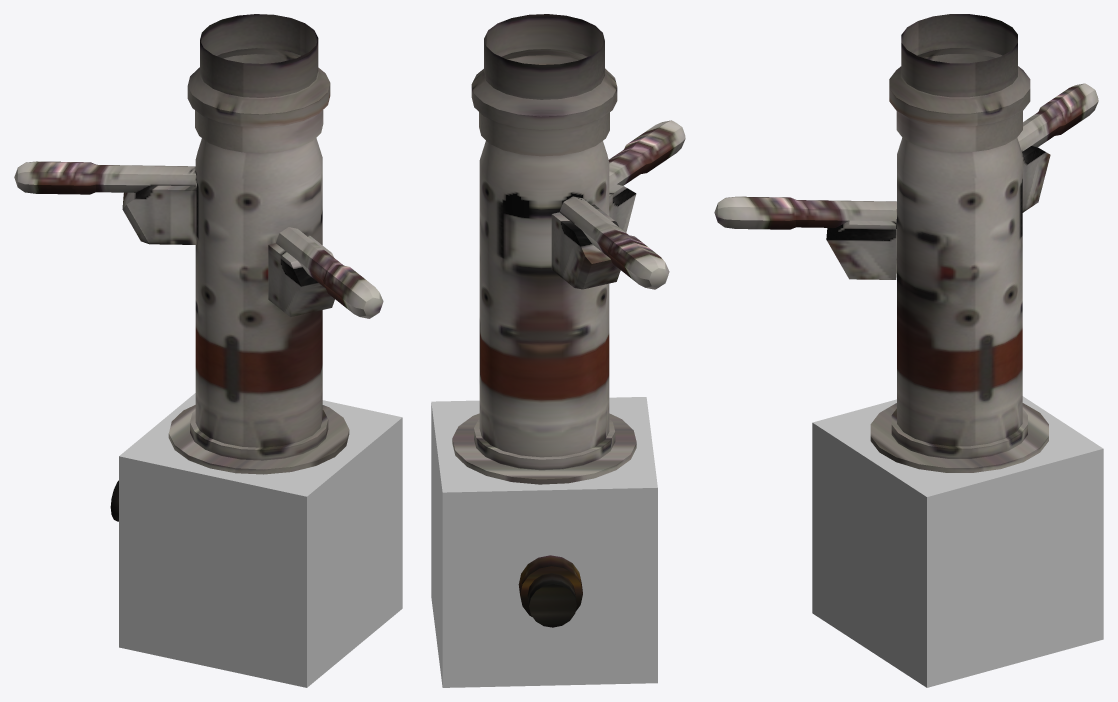
File: mast_p.dae
The picture shows the model from 3 angles, left to right: view 1: azimuth 30°, elevation 25°; view 2: azimuth 150°, elevation 25°; view 3: azimuth 270°, elevation 25°; orthographic projection. The views are drawn at different scales.
Visible parts, largest first — view 1: mast_p, mast_01, REMS_01; view 2: mast_01, mast_p, REMS_01; view 3: mast_p, mast_01, REMS_01.
Boxes of the visible parts, bbox=[...] form: mast_p: bbox=[119, 393, 402, 687]; mast_01: bbox=[110, 14, 349, 521]; REMS_01: bbox=[14, 161, 383, 318]; mast_01: bbox=[452, 14, 636, 627]; mast_p: bbox=[431, 397, 657, 687]; REMS_01: bbox=[551, 120, 685, 289]; mast_p: bbox=[812, 396, 1103, 687]; mast_01: bbox=[870, 14, 1048, 472]; REMS_01: bbox=[714, 83, 1098, 279].
Size of the model in its own units: 0.2947 by 0.3226 by 0.5371.
Materials: 2 (1 with a texture image).
